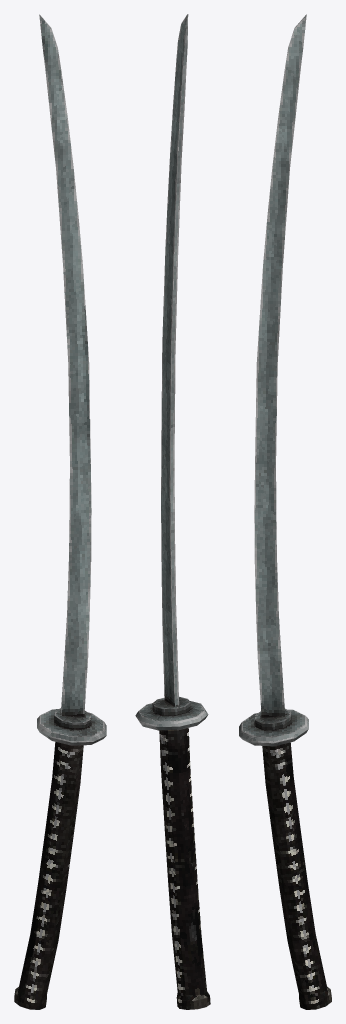
File: new_katana.glb
3 renders of one model, left to right at view 1: azimuth 90°, elevation 25°; view 2: azimuth 210°, elevation 25°; view 3: azimuth 270°, elevation 25°, orthographic.
Parts seen in each view (by area): view 1: Katana; view 2: Katana; view 3: Katana.
Part boxes in pixels (x1,y1,x2,y2): Katana: (14, 14, 106, 1009); Katana: (135, 14, 210, 1009); Katana: (239, 14, 331, 1009).
Bounding box in the file's own units: 0.0609 × 0.905 × 0.0767.
1 material, 1 textured.
